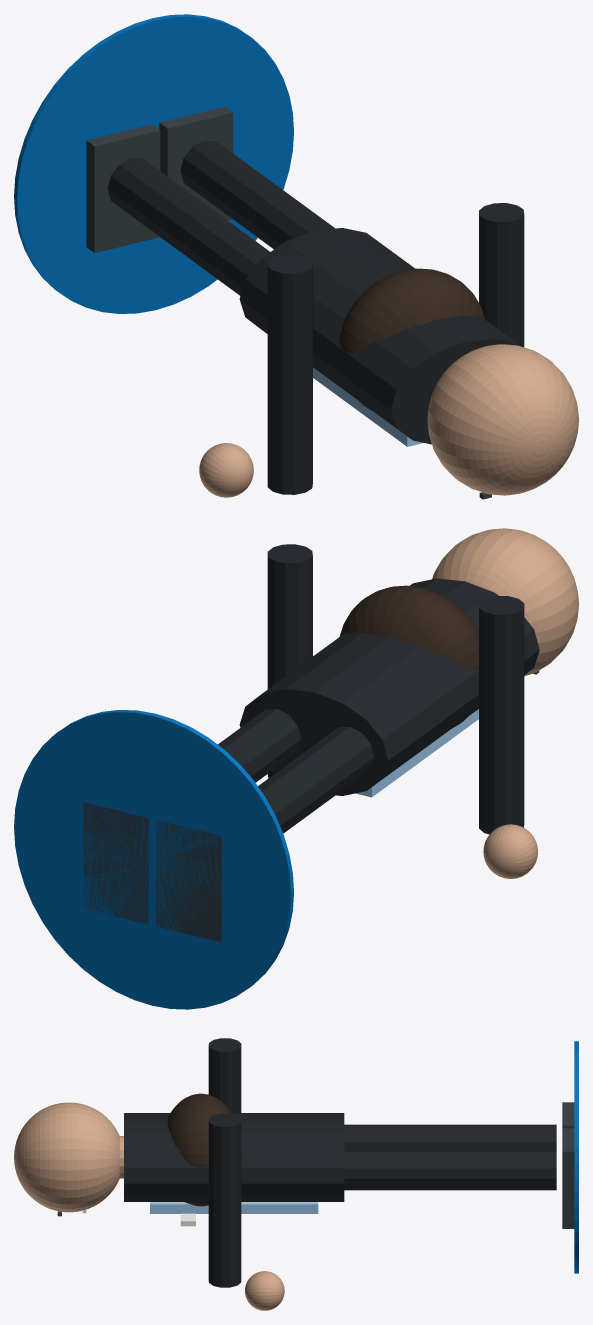
Rendered from vr_bank_teller_npc.glb.
3 views of the same model, one above another, from view 1: azimuth 30°, elevation 25°; view 2: azimuth 150°, elevation 25°; view 3: azimuth 270°, elevation 25° (orthographic). The views are drawn at different scales.
Parts seen in each view (by area): view 1: interaction_marker_floor_ring, torso_suit_jacket, head, left_arm_suit, left_leg_black, right_leg_black, hair_cap, right_arm_suit, left_shoe, right_shoe, left_hand, light_blue_shirt_front; view 2: interaction_marker_floor_ring, torso_suit_jacket, left_arm_suit, head, left_shoe, right_shoe, hair_cap, left_leg_black, right_arm_suit, right_leg_black, left_hand, light_blue_shirt_front; view 3: torso_suit_jacket, head, right_leg_black, right_arm_suit, left_leg_black, hair_cap, left_arm_suit, light_blue_shirt_front, right_shoe, right_hand, interaction_marker_floor_ring.
Boxes of the visible parts, x1,y1,x2,y2 form: interaction_marker_floor_ring: (14, 14, 293, 313); torso_suit_jacket: (239, 228, 521, 444); head: (427, 344, 578, 495); left_arm_suit: (267, 254, 312, 494); left_leg_black: (107, 158, 269, 295); right_leg_black: (180, 140, 335, 249); hair_cap: (339, 268, 485, 410); right_arm_suit: (479, 203, 524, 347); left_shoe: (86, 124, 160, 252); right_shoe: (159, 106, 233, 220); left_hand: (199, 443, 253, 497); light_blue_shirt_front: (313, 368, 423, 446); interaction_marker_floor_ring: (14, 710, 293, 1009); torso_suit_jacket: (239, 578, 539, 795); left_arm_suit: (479, 596, 524, 834); head: (432, 528, 578, 676); left_shoe: (156, 820, 221, 942); right_shoe: (83, 802, 148, 924); hair_cap: (339, 585, 478, 727); left_leg_black: (258, 726, 373, 833); right_arm_suit: (267, 544, 312, 778); right_leg_black: (218, 709, 300, 782); left_hand: (483, 824, 537, 878); light_blue_shirt_front: (355, 709, 478, 797); torso_suit_jacket: (124, 1113, 344, 1201); head: (14, 1102, 119, 1212); right_leg_black: (344, 1150, 556, 1190); right_arm_suit: (208, 1113, 241, 1287); left_leg_black: (344, 1124, 556, 1150); hair_cap: (167, 1093, 231, 1206); left_arm_suit: (208, 1038, 241, 1112); light_blue_shirt_front: (150, 1202, 318, 1213); right_shoe: (562, 1128, 574, 1228); right_hand: (245, 1271, 284, 1310); interaction_marker_floor_ring: (574, 1041, 578, 1273).
Size of the model in its own units: 0.9098 by 0.76 by 1.85.
